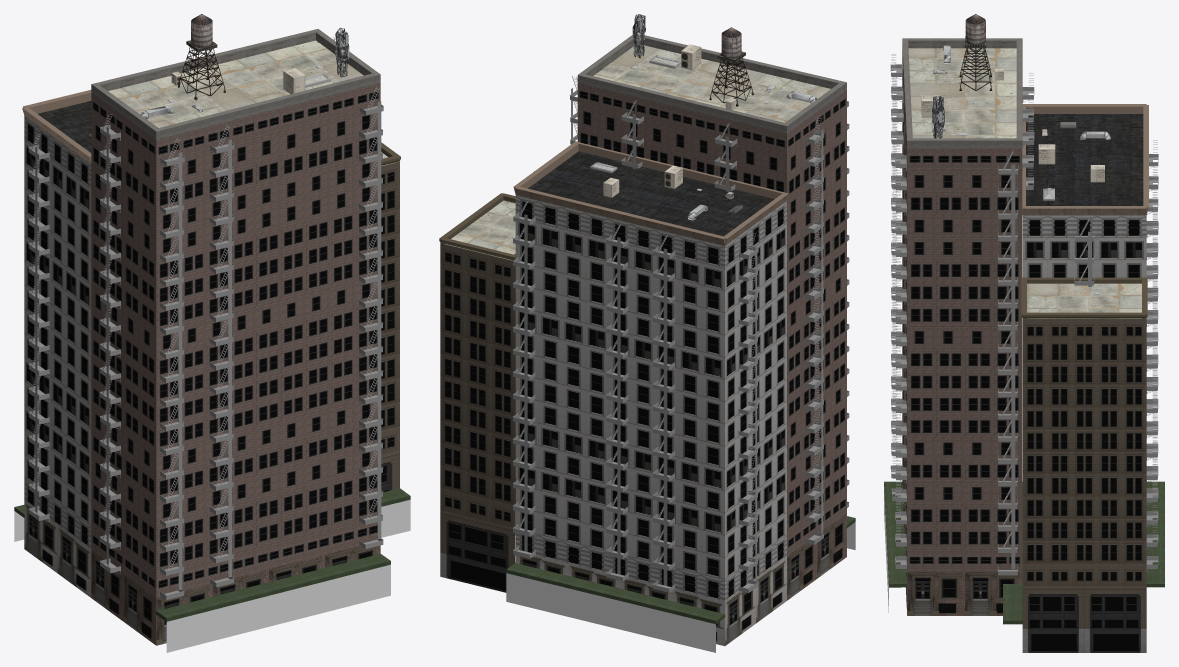
File: building9.gltf
3 views of the same model, side by side, from view 1: azimuth 30°, elevation 25°; view 2: azimuth 150°, elevation 25°; view 3: azimuth 270°, elevation 25° (orthographic). The views are drawn at different scales.
Visible parts, largest first — view 1: Object_122.009, Object_107.005, Object_95.007; view 2: Object_122.009, Object_107.005; view 3: Object_122.009, Object_107.005, Object_95.007.
Part boxes in pixels (<box>): Object_122.009: <box>14,29,410,652</box>; Object_107.005: <box>178,14,225,99</box>; Object_95.007: <box>335,27,349,77</box>; Object_122.009: <box>439,35,855,652</box>; Object_107.005: <box>709,27,753,106</box>; Object_122.009: <box>884,38,1164,652</box>; Object_107.005: <box>959,14,992,90</box>; Object_95.007: <box>932,96,944,138</box>.
Bounding box in the file's own units: 41.8 × 72.43 × 34.27.
19 materials, 12 textured.
